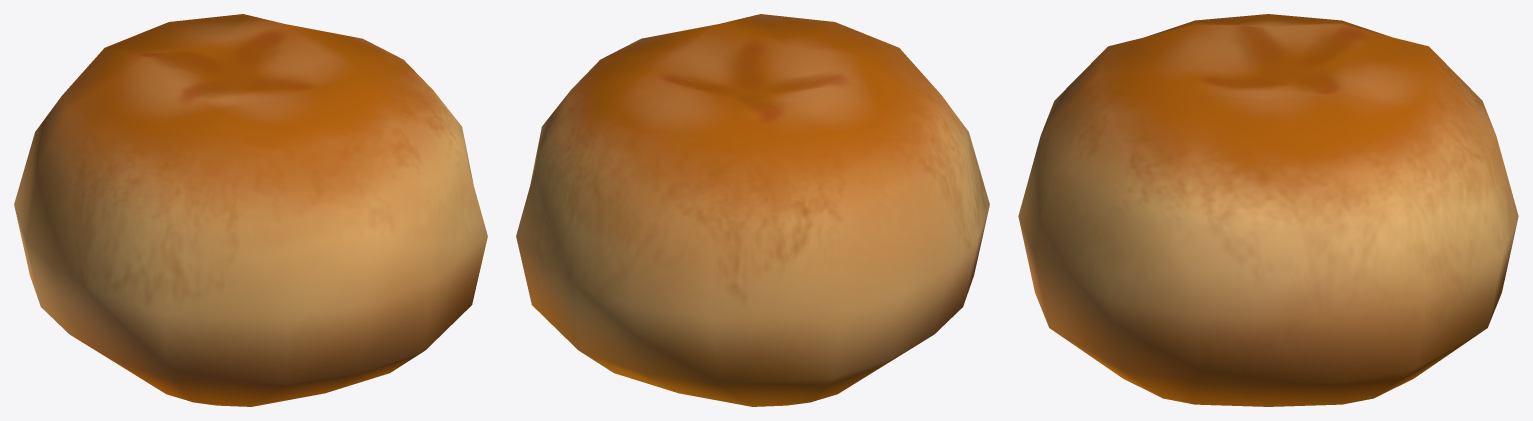
Rendered from Bun.fbx.
3 views of the same model, side by side, from view 1: azimuth 30°, elevation 25°; view 2: azimuth 150°, elevation 25°; view 3: azimuth 270°, elevation 25° (orthographic). The views are drawn at different scales.
Parts seen in each view (by area): view 1: Bun; view 2: Bun; view 3: Bun.
Part boxes in pixels (left/top/right/bottom): Bun: left=14, top=14, right=487, bottom=406; Bun: left=516, top=14, right=989, bottom=406; Bun: left=1018, top=14, right=1518, bottom=406.
Size of the model in its own units: 28.93 by 20.74 by 30.51.
